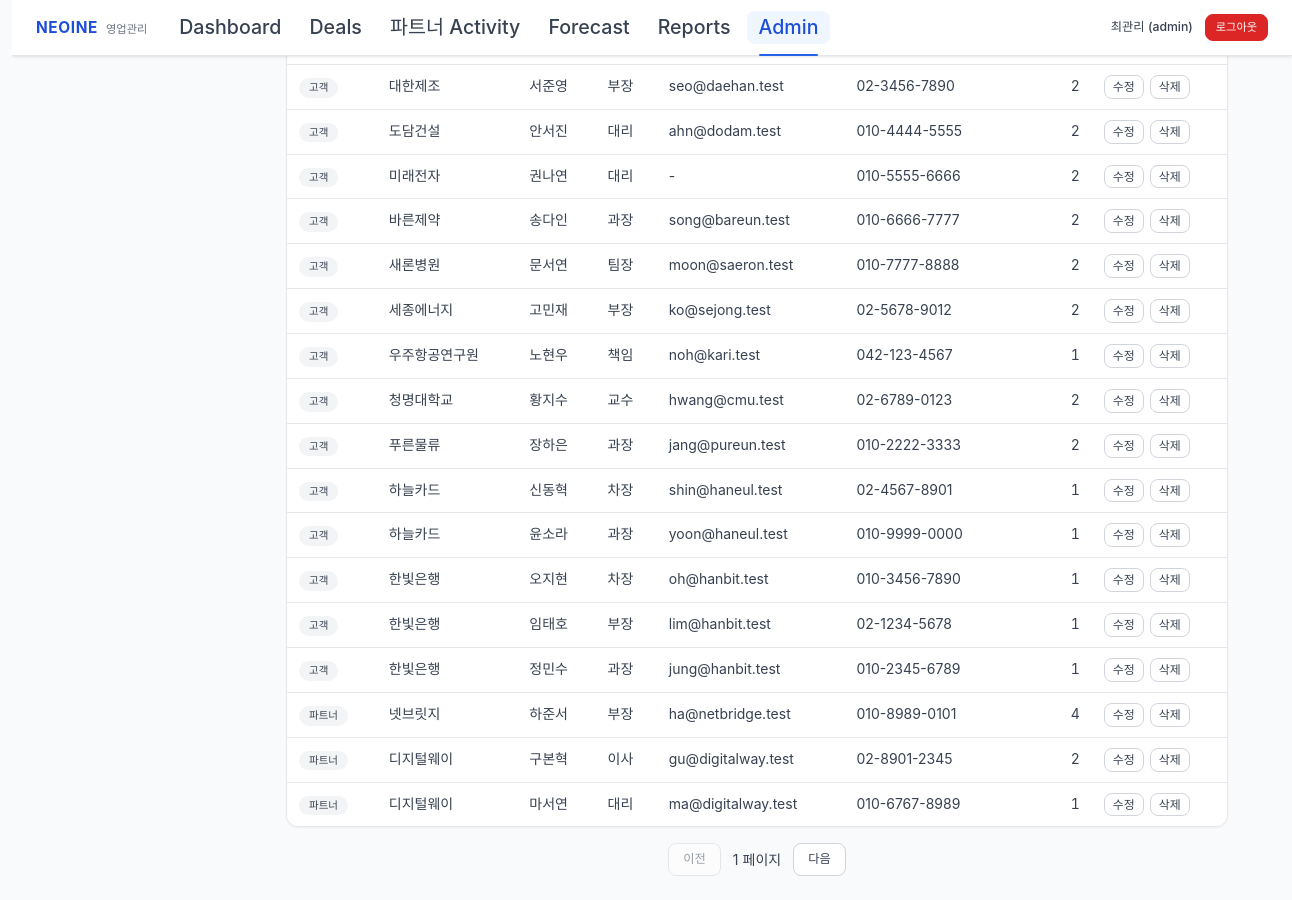
Scenario: contacts 목록 (T-ADMIN-07) › searches by keyword from the first page, also with Enter
This screenshot has width=1292, height=900.
(page scrolled)
Click the button "다음".
click(819, 860)  # box [793,844,846,876]
(page scrolled)
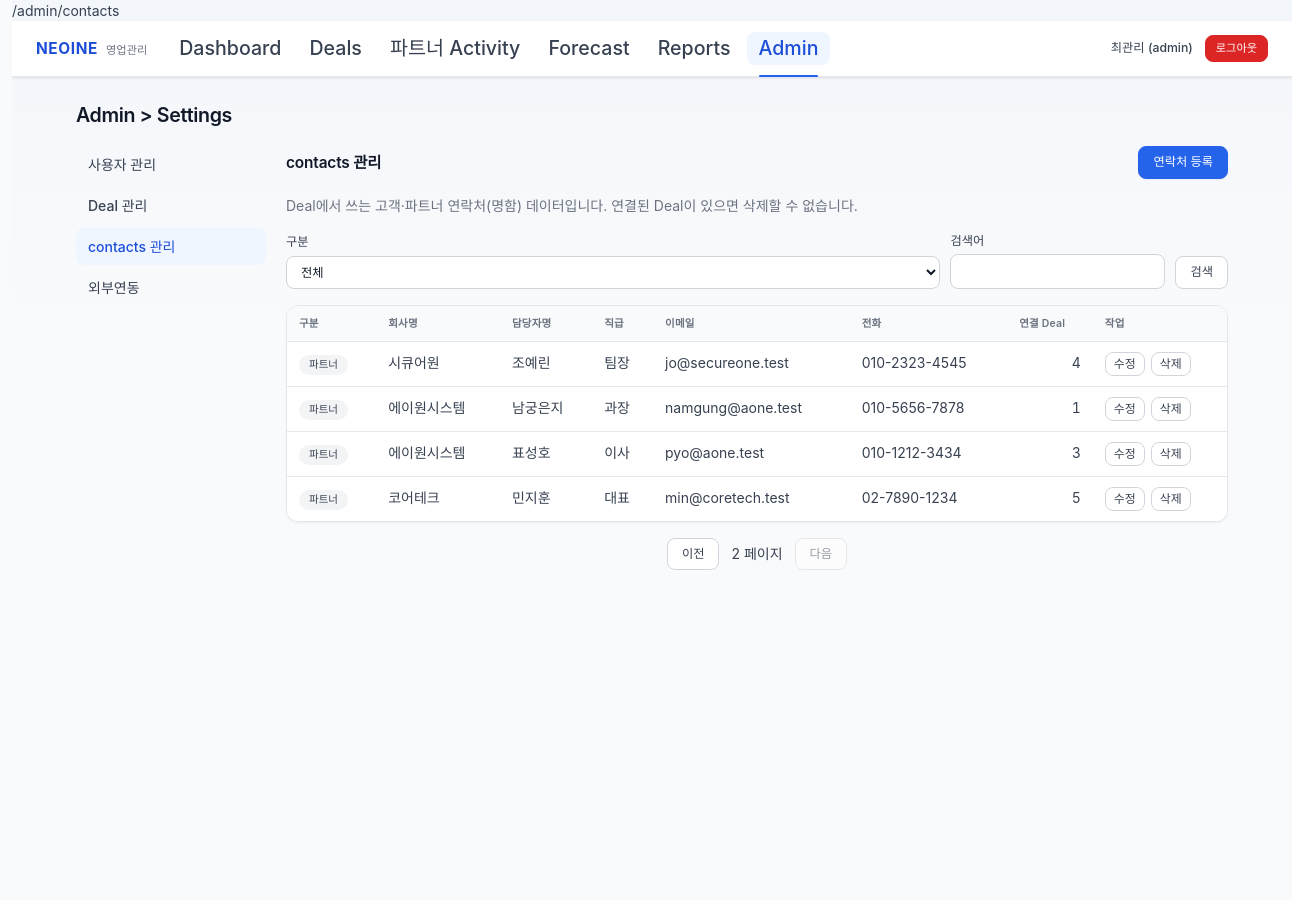
Type "한빛" into the field labelled "검색어".
click(1058, 271); type("한빛")  # box [950,254,1166,288]
Then press Enter
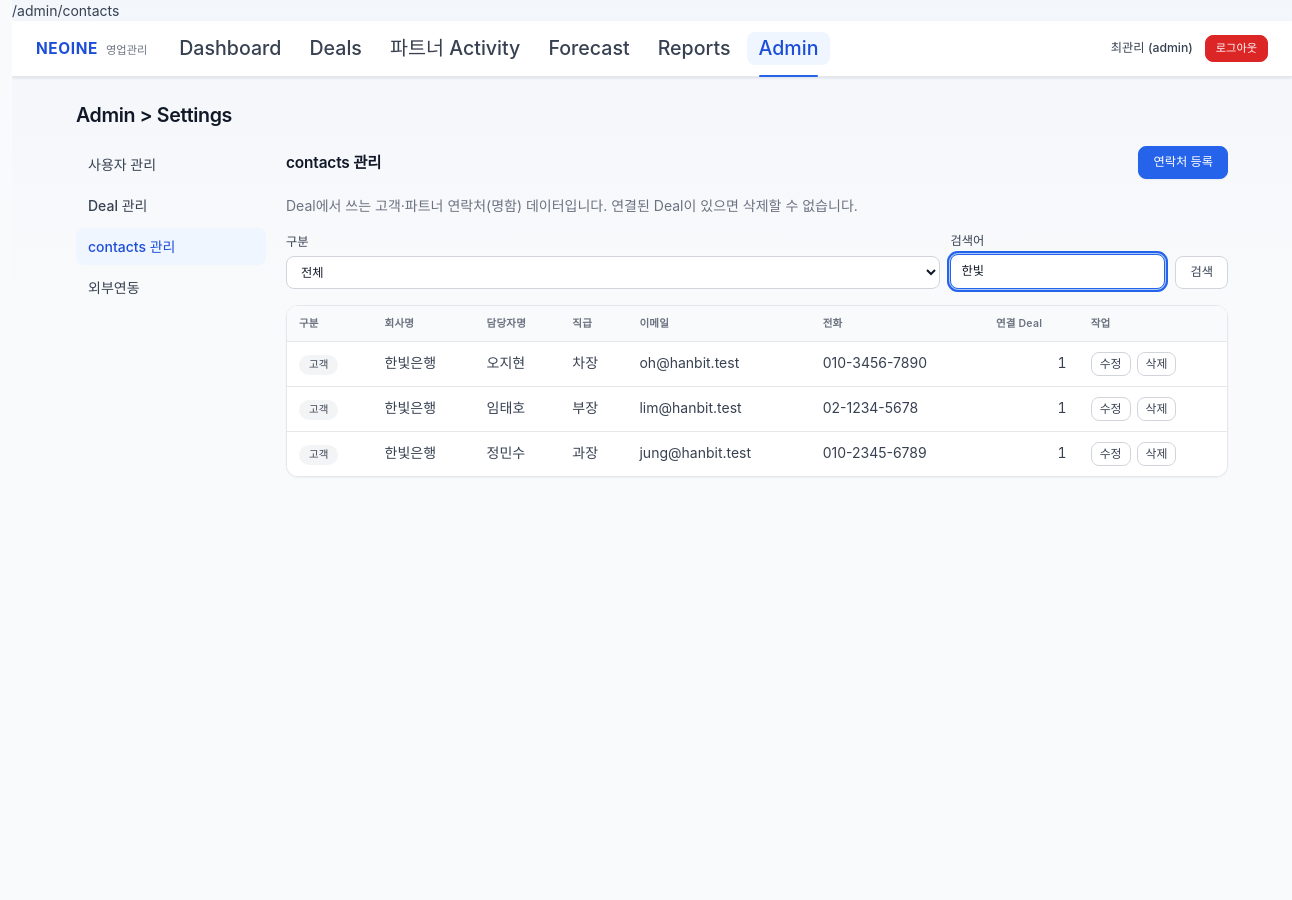
Expected: the row "고객 한빛은행 임태호 부장 lim@hanbit.test 02-1234-5678 1 수정 삭제" is shown, [287,387,1227,432]
